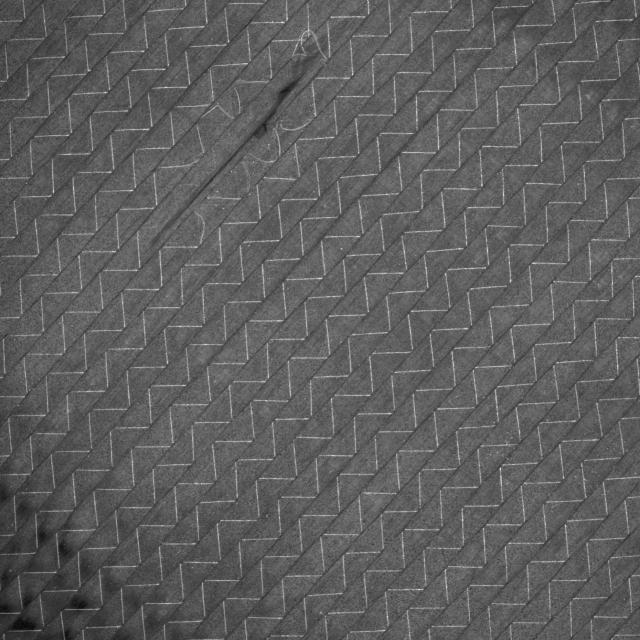carbon-fibre-defect: (124, 26, 336, 259), (183, 89, 332, 245)
